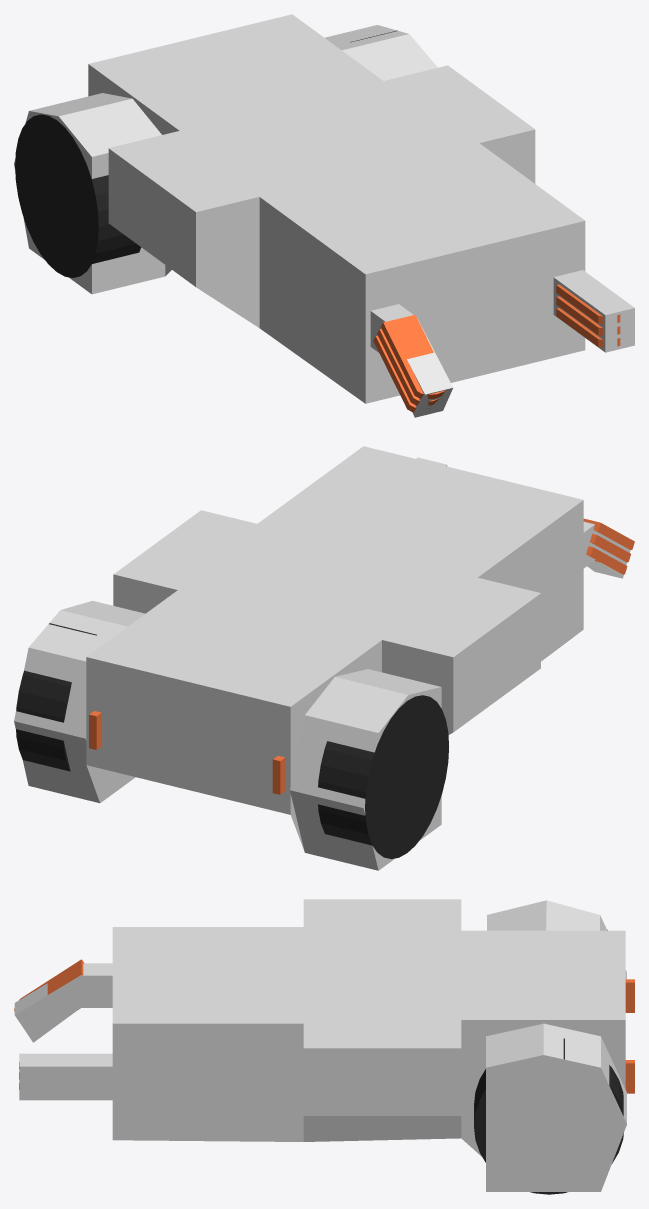
Rendered from punk-samurai-robot.fbx.
3 views of the same model, one above another, from view 1: azimuth 30°, elevation 25°; view 2: azimuth 150°, elevation 25°; view 3: azimuth 270°, elevation 25° (orthographic). The views are drawn at different scales.
Parts seen in each view (by area): view 1: body-collieder, Cylinder.001, Cube.008, Cube.009; view 2: body-collieder, Cylinder.001, Cube.008, Cube.007; view 3: body-collieder, Cylinder.001, Cube.007, Cube.008.
Part boxes in pixels (x1,y1,x2,y2): body-collieder: [14, 14, 634, 417]; Cylinder.001: [15, 30, 397, 277]; Cube.008: [373, 315, 445, 412]; Cube.009: [556, 284, 620, 347]; body-collieder: [14, 446, 630, 870]; Cylinder.001: [16, 623, 448, 858]; Cube.008: [583, 518, 634, 574]; Cube.007: [89, 711, 285, 794]; body-collieder: [14, 899, 626, 1191]; Cylinder.001: [474, 930, 623, 1194]; Cube.007: [625, 979, 634, 1093]; Cube.008: [14, 959, 84, 1011].
Bounding box in the file's own units: 0.1404 × 0.0611 × 0.2401.
